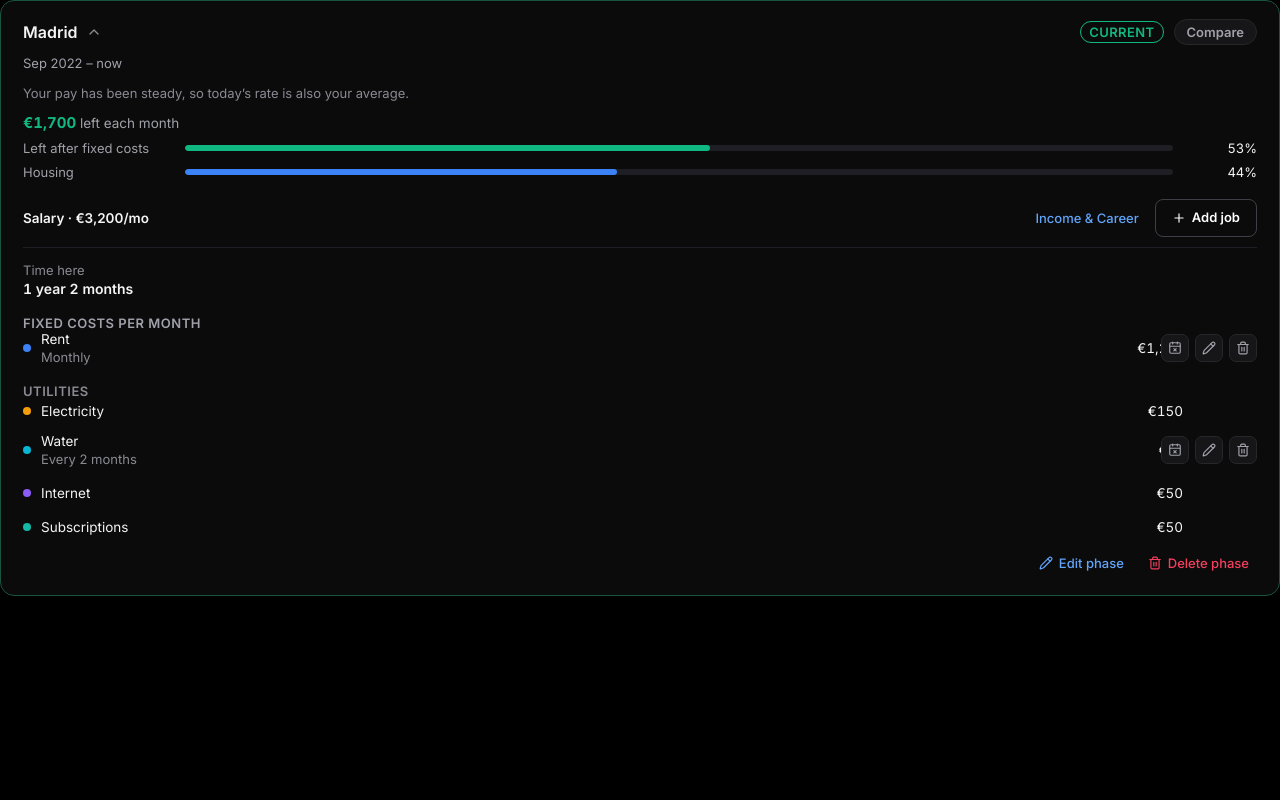
Test: LivingPhaseCard costs › keeps a bill when the person changes their mind
Click the button named "Remove Rent Landlord": (1243, 348) [1229,334,1257,362]
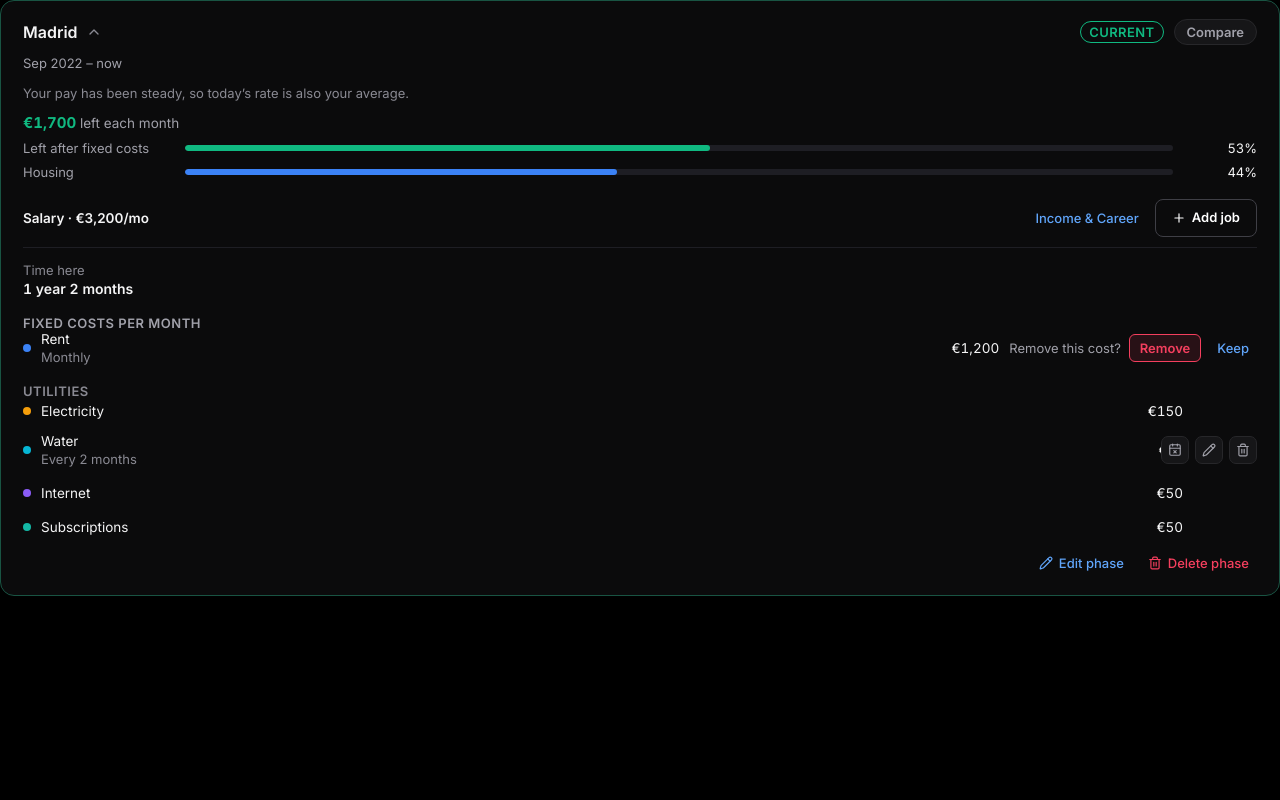
Click the button "Keep": (1233, 348) [1209,334,1257,362]
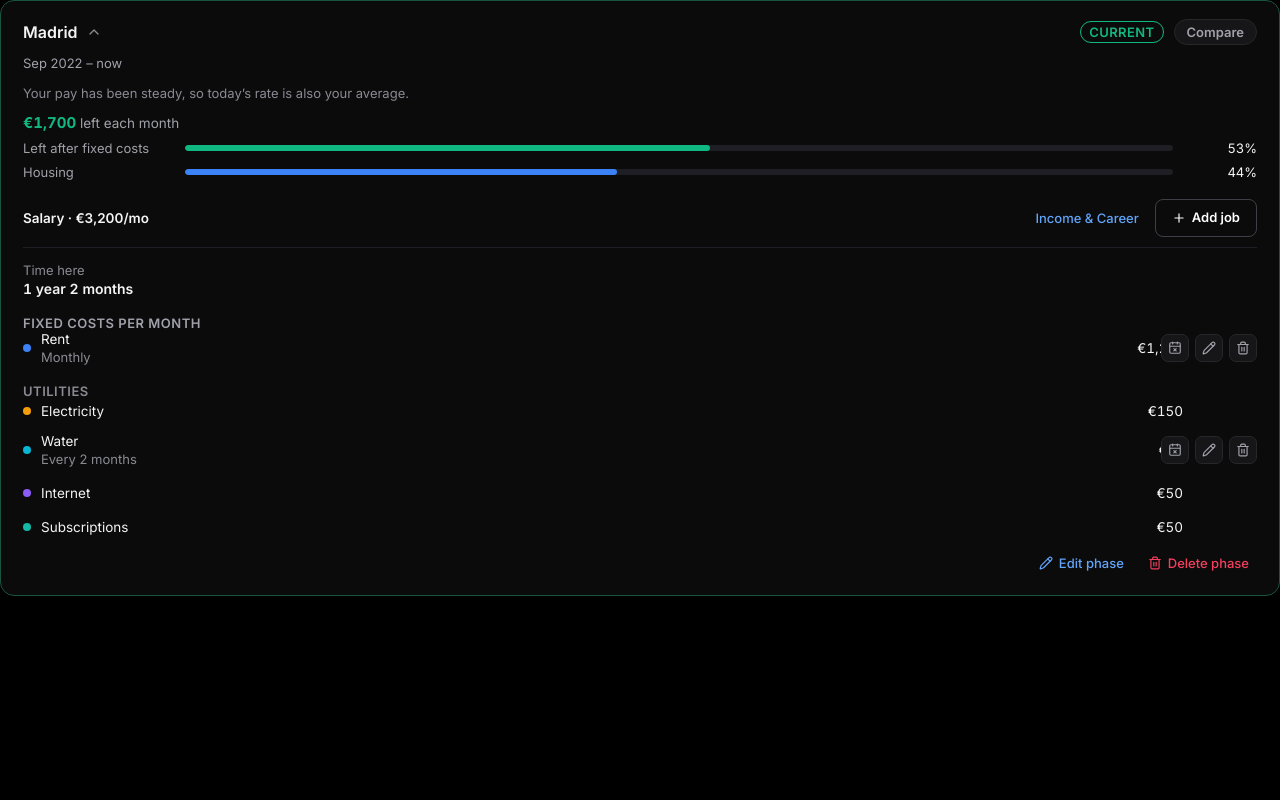
Check: the text "Remove this cost?" is gone
